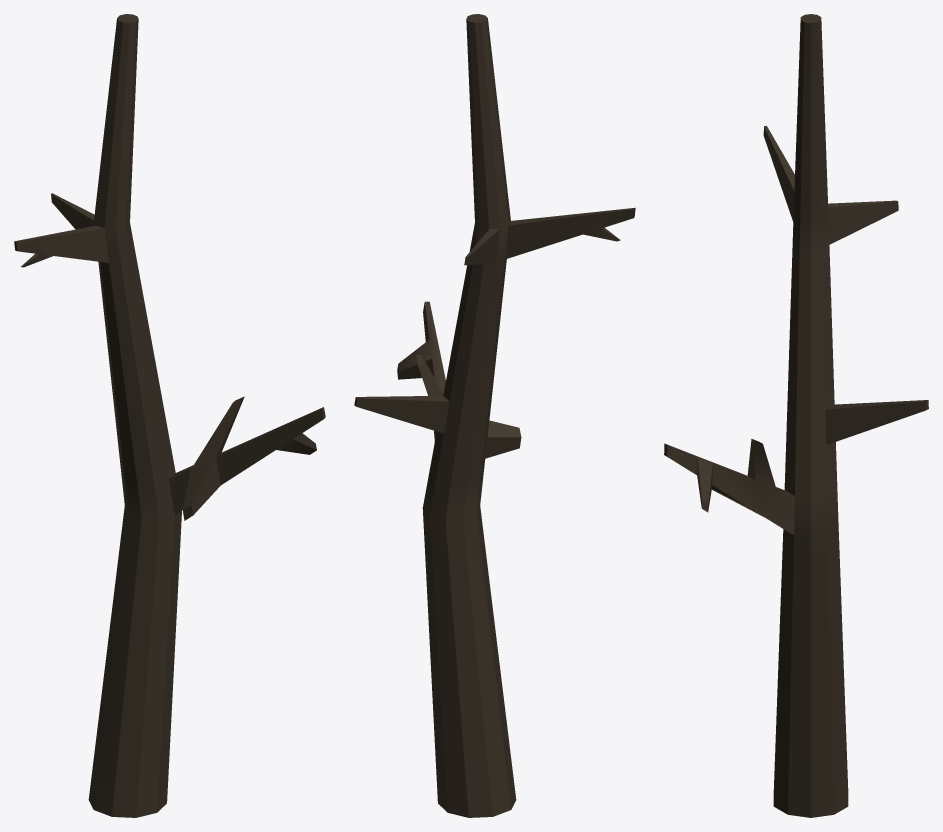
The model's file is DeadTree2.fbx.
The picture shows the model from 3 angles, left to right: view 1: azimuth 30°, elevation 25°; view 2: azimuth 150°, elevation 25°; view 3: azimuth 270°, elevation 25°; orthographic projection.
Parts seen in each view (by area): view 1: DeadTree2; view 2: DeadTree2; view 3: DeadTree2.
Part boxes in pixels (x1,y1,x2,y2): DeadTree2: [14, 14, 325, 817]; DeadTree2: [354, 14, 635, 817]; DeadTree2: [664, 14, 928, 817].
Bounding box in the file's own units: 465 × 1287 × 395.
